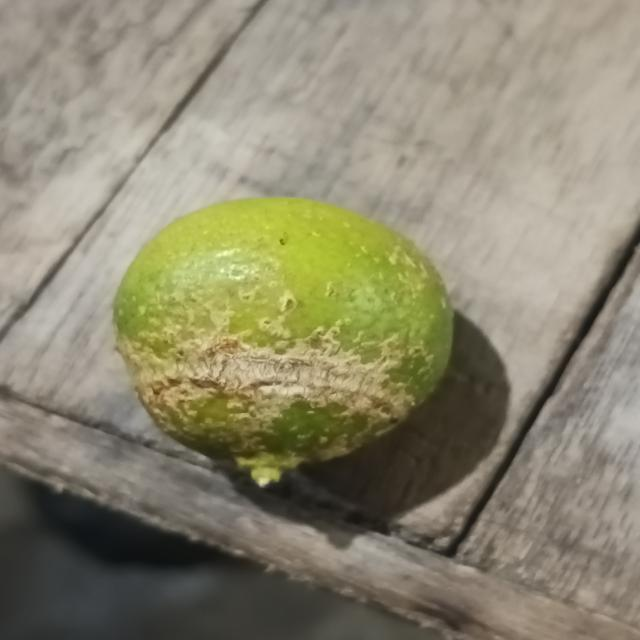thrips: (119, 194, 457, 466)
